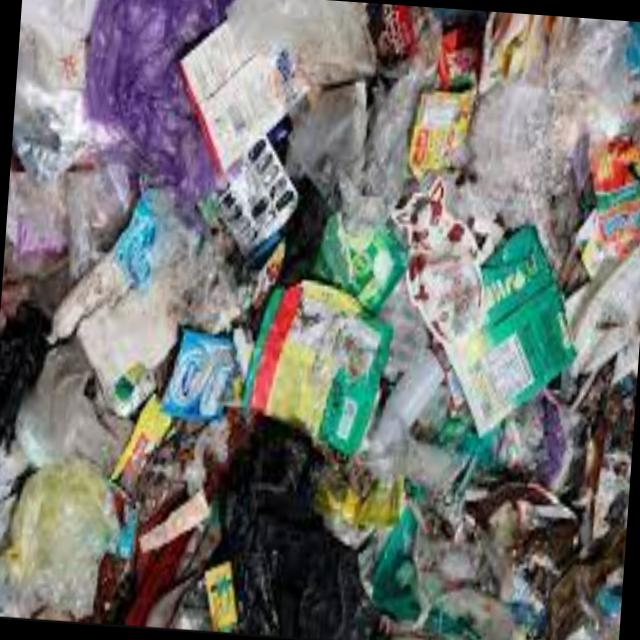KemasanPlastik: (436, 222, 583, 447), (238, 274, 397, 455), (308, 210, 410, 326), (159, 328, 237, 426)
